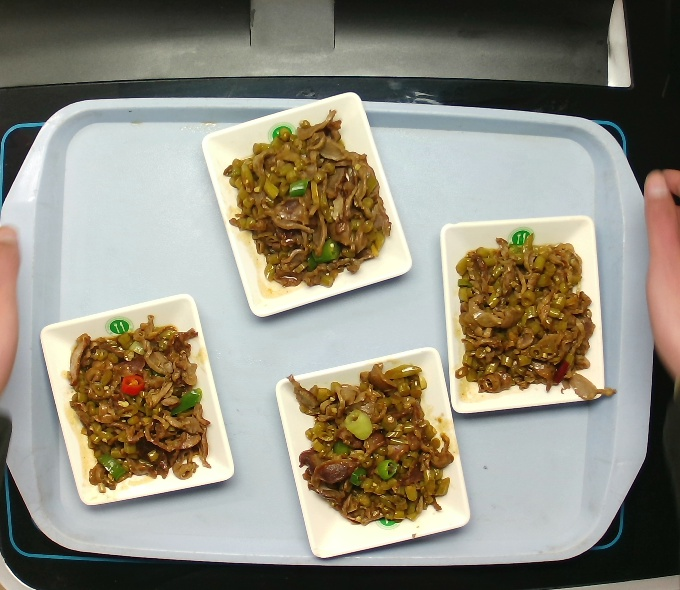wcq-JiZhen: (223, 106, 396, 296), (450, 222, 620, 411), (281, 356, 456, 529), (68, 313, 224, 496)
